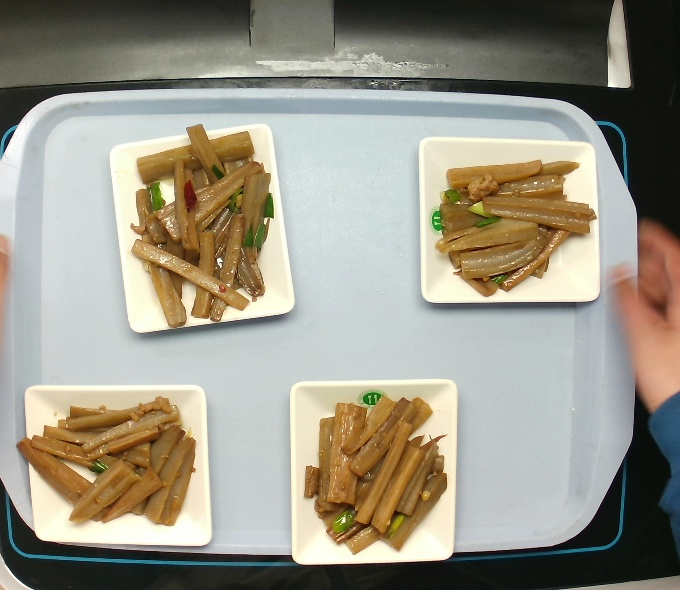wcq-QingChaoOuKuai: (119, 110, 281, 335), (425, 147, 599, 292), (305, 392, 453, 558), (21, 394, 198, 526)
